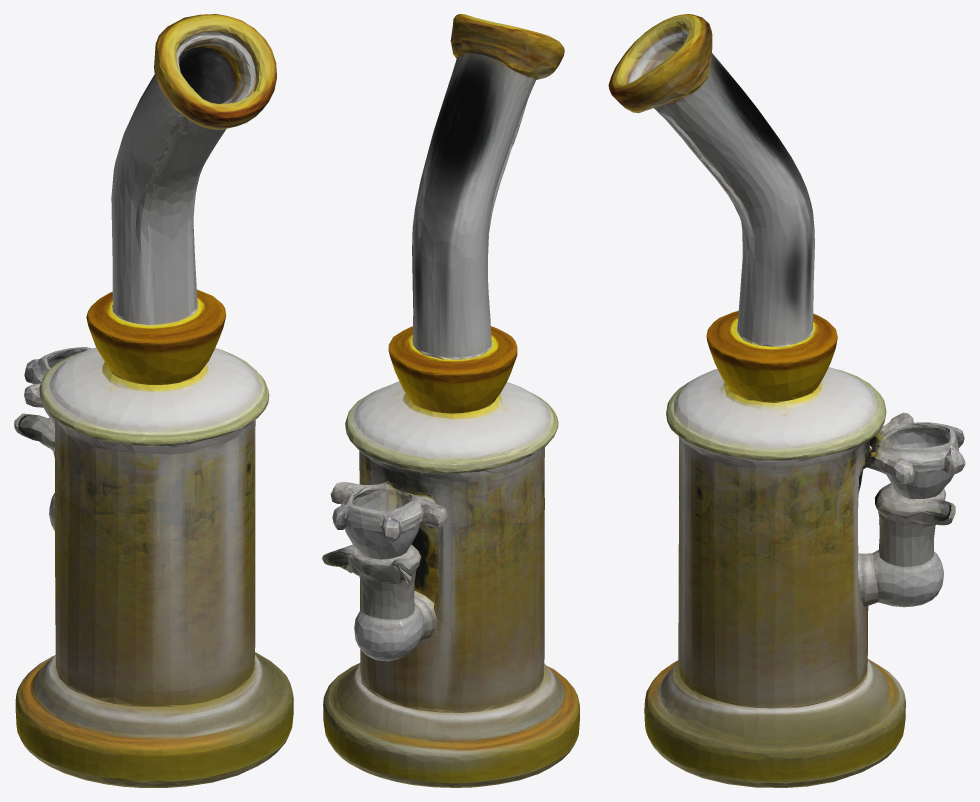
File: 2dc46acf-c754-4945-b71d-c4809ea359b3.glb
The picture shows the model from 3 angles, left to right: view 1: azimuth 30°, elevation 25°; view 2: azimuth 150°, elevation 25°; view 3: azimuth 270°, elevation 25°; orthographic projection. The views are drawn at different scales.
Parts seen in each view (by area): view 1: world; view 2: world; view 3: world.
Boxes of the visible parts, x1,y1,x2,y2 form: world: (14, 14, 293, 787); world: (322, 14, 579, 787); world: (608, 14, 965, 787).
Size of the model in its own units: 0.2369 by 0.6991 by 0.3167.
1 material, 1 textured.
